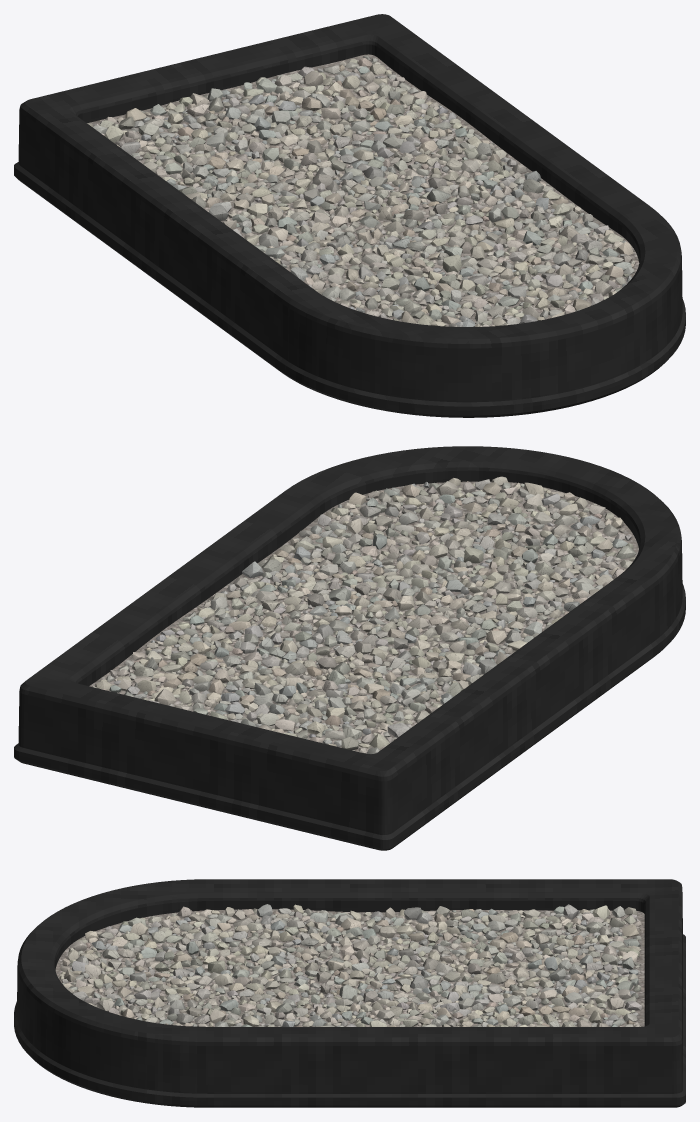
File: flower-round-marble-detail.glb
3 renders of one model, top to bottom at view 1: azimuth 30°, elevation 25°; view 2: azimuth 150°, elevation 25°; view 3: azimuth 270°, elevation 25°, orthographic. The views are drawn at different scales.
Parts seen in each view (by area): view 1: SM_flower_round_marble; view 2: SM_flower_round_marble; view 3: SM_flower_round_marble.
Boxes of the visible parts, x1,y1,x2,y2 form: SM_flower_round_marble: (14,14,685,417); SM_flower_round_marble: (14,446,685,850); SM_flower_round_marble: (14,879,685,1107).
Size of the model in its own units: 0.66 by 0.128 by 1.14.
4 materials, 4 textured.
